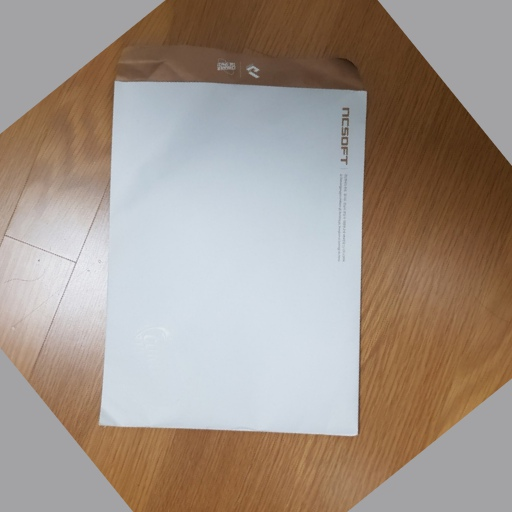Paper_2: (98, 40, 373, 447)
